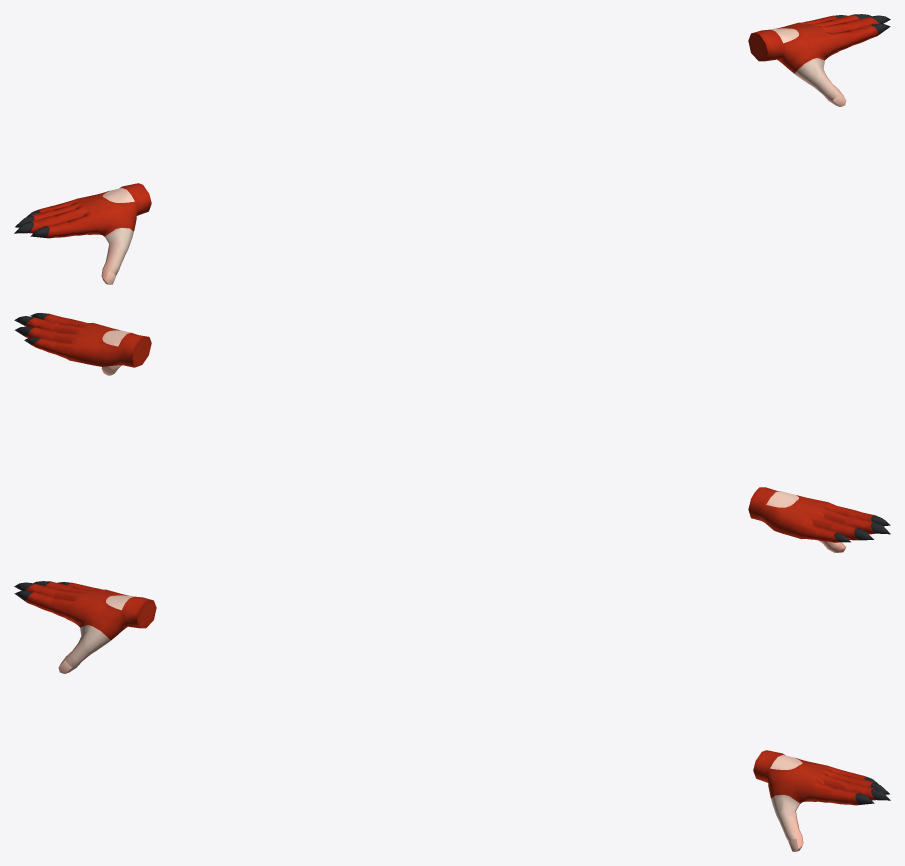
File: p0_glv1003_00_glv00.gltf
3 views of the same model, one above another, from view 1: azimuth 30°, elevation 25°; view 2: azimuth 150°, elevation 25°; view 3: azimuth 330°, elevation 25° (orthographic).
Visible parts, largest first — view 1: glv00_glove_mesh_shape:glove, glv00_glove_mesh_shape:glove_skin; view 2: glv00_glove_mesh_shape:glove, glv00_glove_mesh_shape:glove_skin; view 3: glv00_glove_mesh_shape:glove, glv00_glove_mesh_shape:glove_skin.
Boxes of the visible parts, <box> form: glv00_glove_mesh_shape:glove: <box>14,14,890,238</box>; glv00_glove_mesh_shape:glove_skin: <box>101,28,846,284</box>; glv00_glove_mesh_shape:glove: <box>14,313,890,542</box>; glv00_glove_mesh_shape:glove_skin: <box>101,330,846,552</box>; glv00_glove_mesh_shape:glove: <box>14,581,890,805</box>; glv00_glove_mesh_shape:glove_skin: <box>58,595,803,851</box>.
Size of what is drawn, in the model's own units: 1.39 by 0.1036 by 0.1177.
2 materials, 2 textured.
